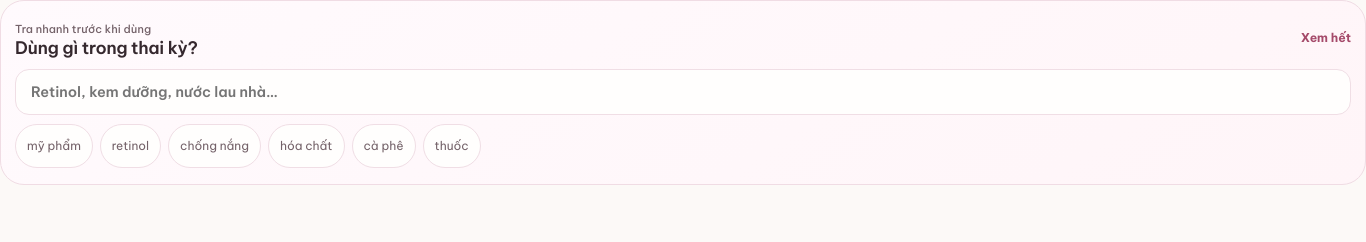
PregnancySafetySearch › shows a safe fallback when the local guide has no match
The width and height of the screenshot is (1366, 242).
Step 1. Type "món chưa biết" into the search field → (684, 92), box top-left (29, 70), bottom-right (1340, 114)
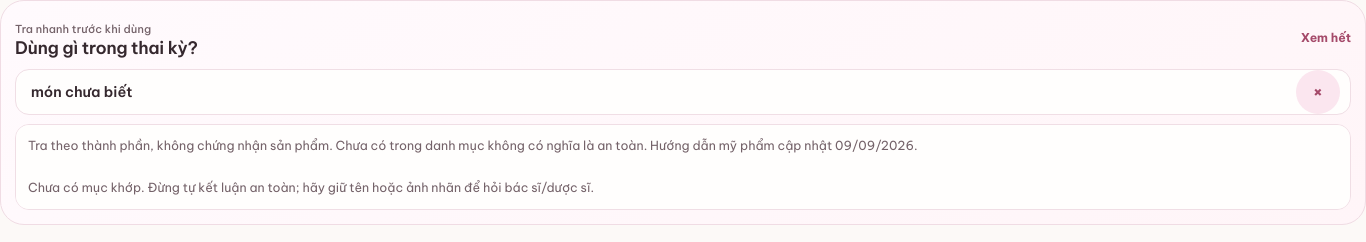
Expected: the text "Đừng tự kết luận an toàn" is shown, top-left (28, 180), bottom-right (594, 195)
